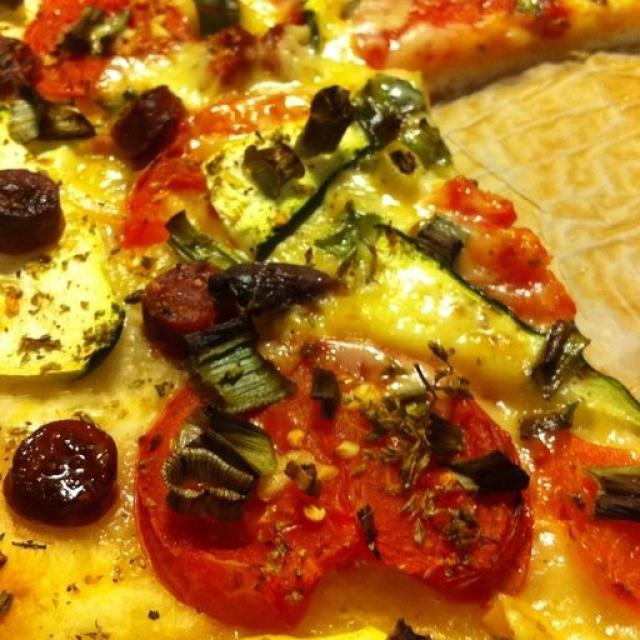Eggplant: (299, 227, 631, 449), (210, 86, 392, 253), (0, 237, 128, 377)
Olives: (110, 239, 339, 330), (10, 422, 116, 528), (0, 162, 68, 252), (296, 81, 358, 153)
Tomato: (140, 336, 526, 627), (542, 435, 640, 608), (431, 191, 571, 310), (26, 0, 133, 92), (124, 166, 205, 252)
